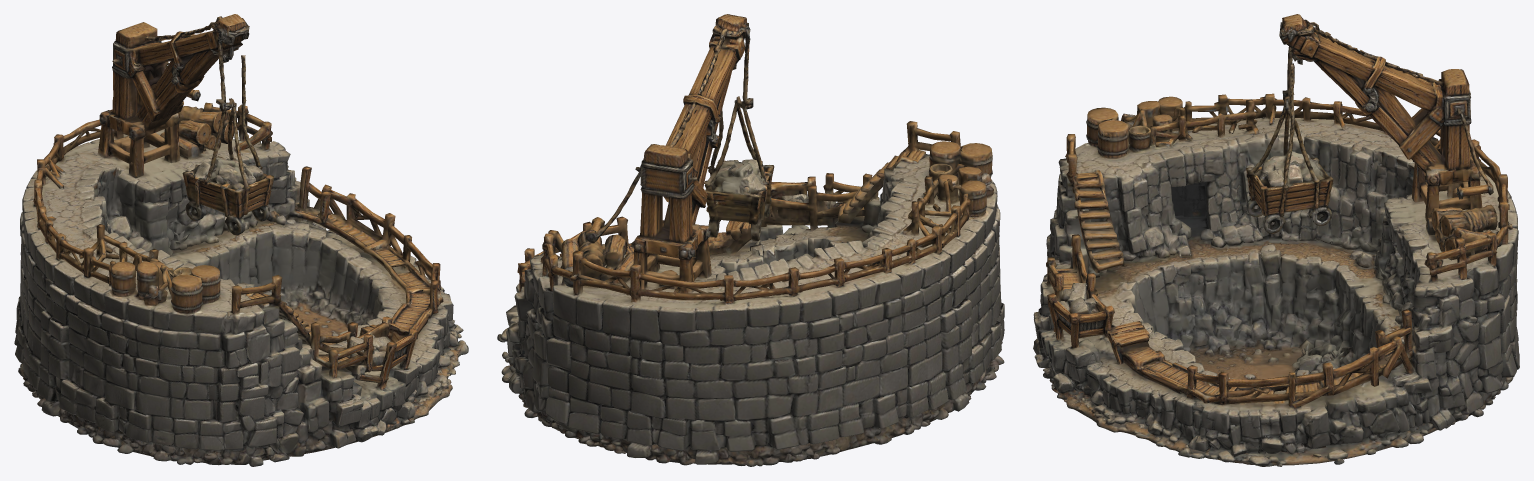
Rendered from tripo_convert_fe51d2b9-937f-4d24-a85a-13e3762b08cd.fbx.
3 views of the same model, side by side, from view 1: azimuth 30°, elevation 25°; view 2: azimuth 150°, elevation 25°; view 3: azimuth 270°, elevation 25° (orthographic). The views are drawn at different scales.
Visible parts, largest first — view 1: tripo_node_fe51d2b9; view 2: tripo_node_fe51d2b9; view 3: tripo_node_fe51d2b9.
Part boxes in pixels (x1,y1,x2,y2): tripo_node_fe51d2b9: (14,14,468,466); tripo_node_fe51d2b9: (497,14,1004,466); tripo_node_fe51d2b9: (1033,14,1519,466).
Bounding box in the file's own units: 0.9749 × 0.7765 × 0.9809.
1 material, 1 textured.
